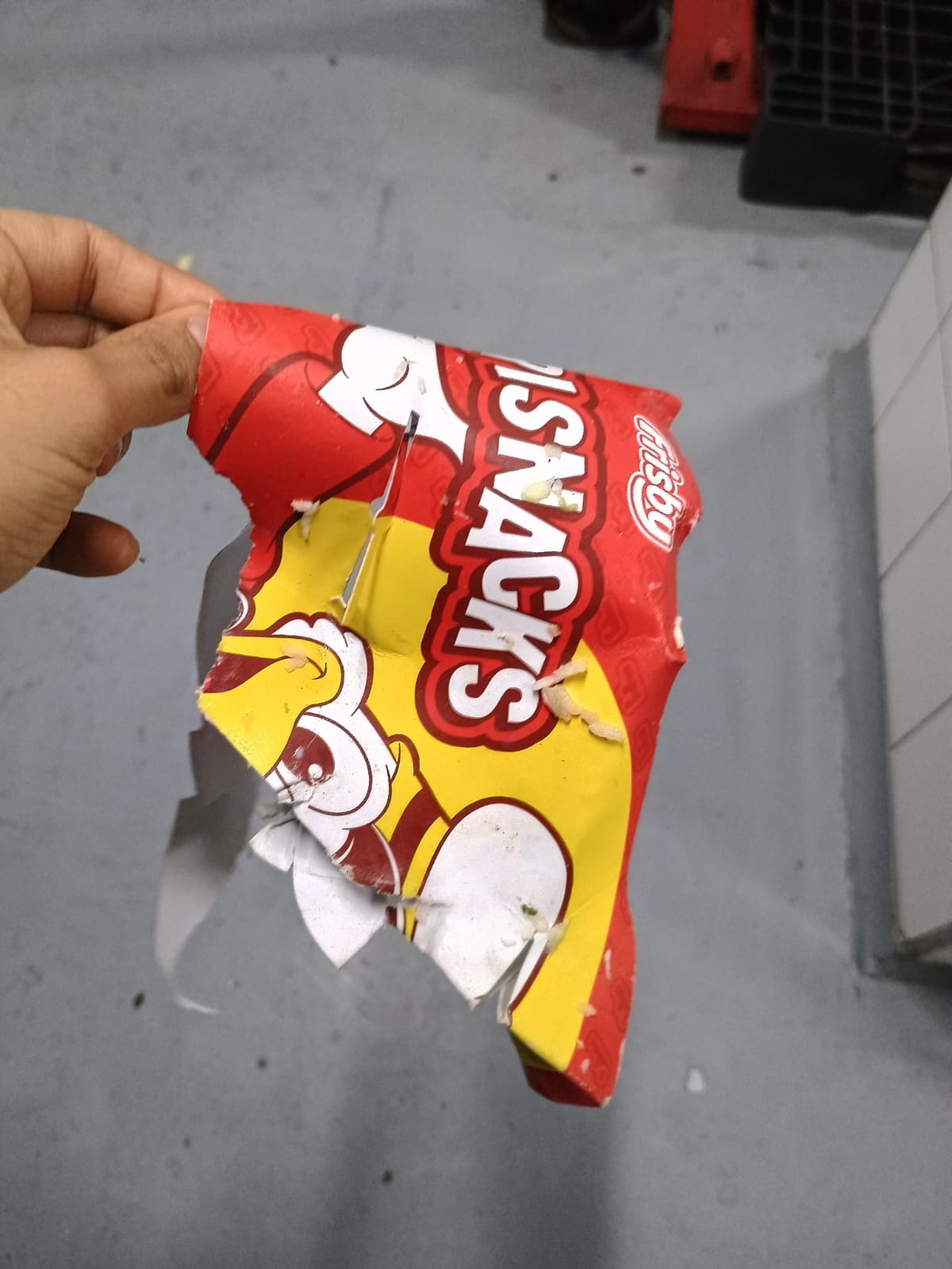Ordinario: (197, 292, 698, 1113)
